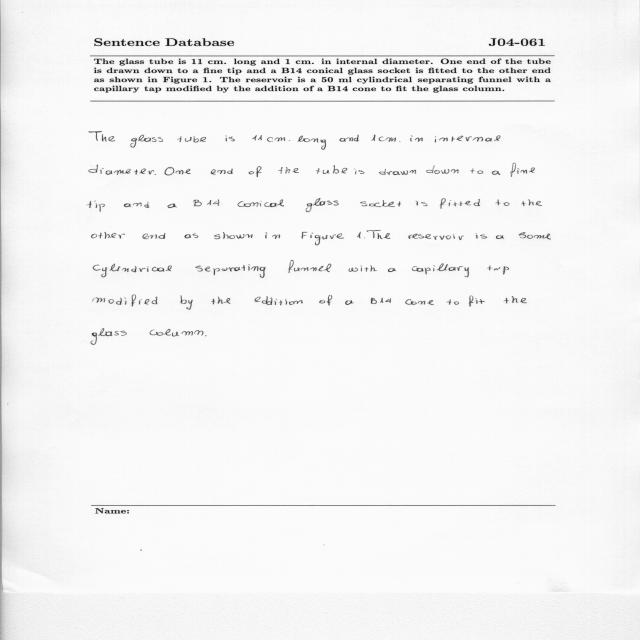word: (93, 264, 172, 277), (196, 264, 266, 278), (412, 264, 469, 278), (93, 295, 157, 306), (89, 165, 154, 175), (91, 328, 127, 345), (289, 260, 332, 273), (302, 232, 344, 245), (435, 136, 501, 143), (254, 297, 303, 306), (440, 198, 480, 209), (131, 135, 164, 148), (306, 199, 339, 212), (298, 135, 326, 150), (150, 329, 204, 336), (238, 199, 284, 207), (510, 163, 535, 177), (408, 234, 464, 240), (360, 200, 402, 207), (426, 165, 458, 174), (89, 131, 115, 142), (316, 165, 347, 174), (215, 232, 253, 239), (91, 232, 125, 239), (379, 169, 416, 175), (367, 230, 391, 239), (165, 167, 191, 175), (177, 136, 206, 143), (87, 201, 105, 212), (349, 265, 377, 272), (488, 266, 509, 275), (194, 199, 220, 206), (181, 295, 193, 310), (469, 296, 485, 307), (405, 299, 434, 305), (504, 296, 527, 303), (211, 297, 231, 305), (211, 168, 233, 175), (248, 166, 262, 177), (124, 202, 149, 208), (521, 199, 542, 206), (279, 167, 299, 174), (143, 233, 166, 239), (340, 135, 359, 142), (319, 295, 332, 305), (371, 298, 391, 304), (267, 137, 290, 142), (379, 137, 401, 142), (495, 199, 510, 206), (265, 232, 280, 239), (534, 234, 551, 240), (519, 232, 533, 239), (410, 135, 423, 142), (471, 168, 483, 174), (447, 299, 459, 305), (185, 234, 199, 239), (225, 136, 235, 142), (252, 135, 262, 141), (416, 201, 428, 206), (476, 234, 487, 239), (355, 169, 365, 174), (345, 300, 354, 305), (492, 170, 500, 175), (167, 204, 177, 208), (496, 235, 504, 239), (388, 268, 396, 272), (372, 134, 376, 141), (357, 232, 361, 238), (205, 336, 207, 337), (155, 174, 156, 175), (364, 238, 365, 238)
